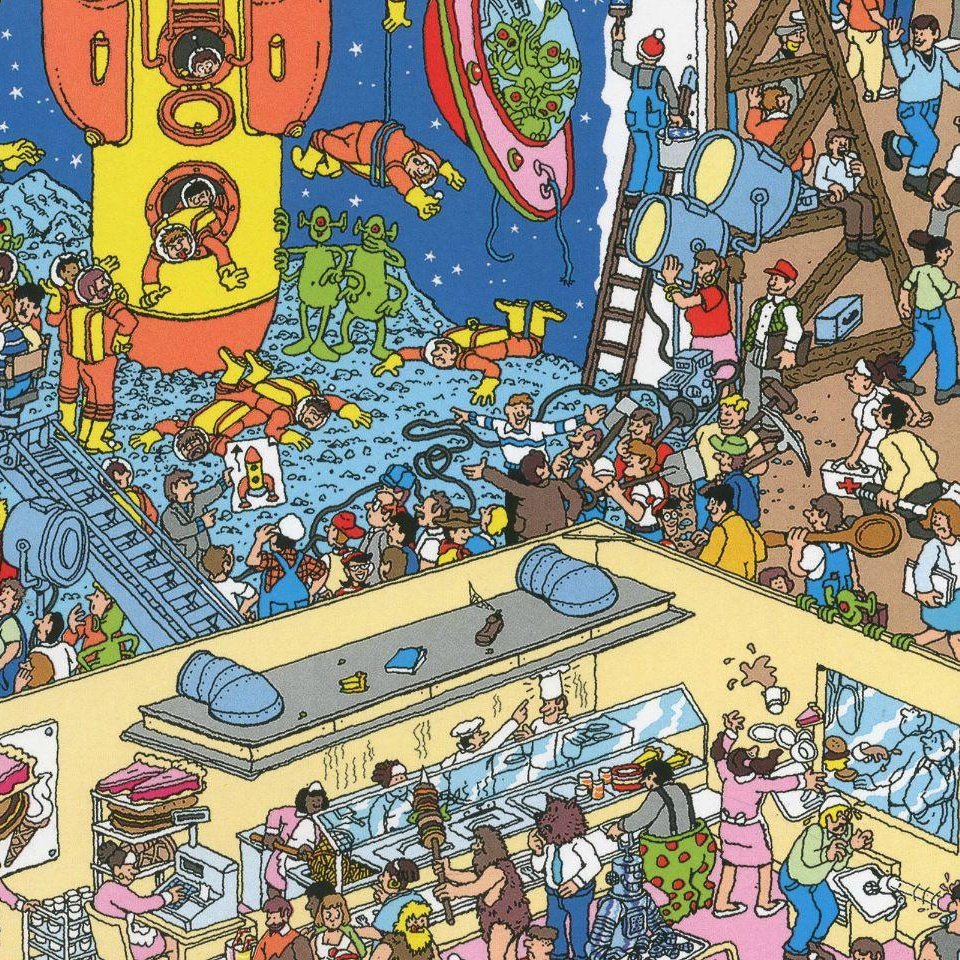waldo: (645, 494, 681, 550)
